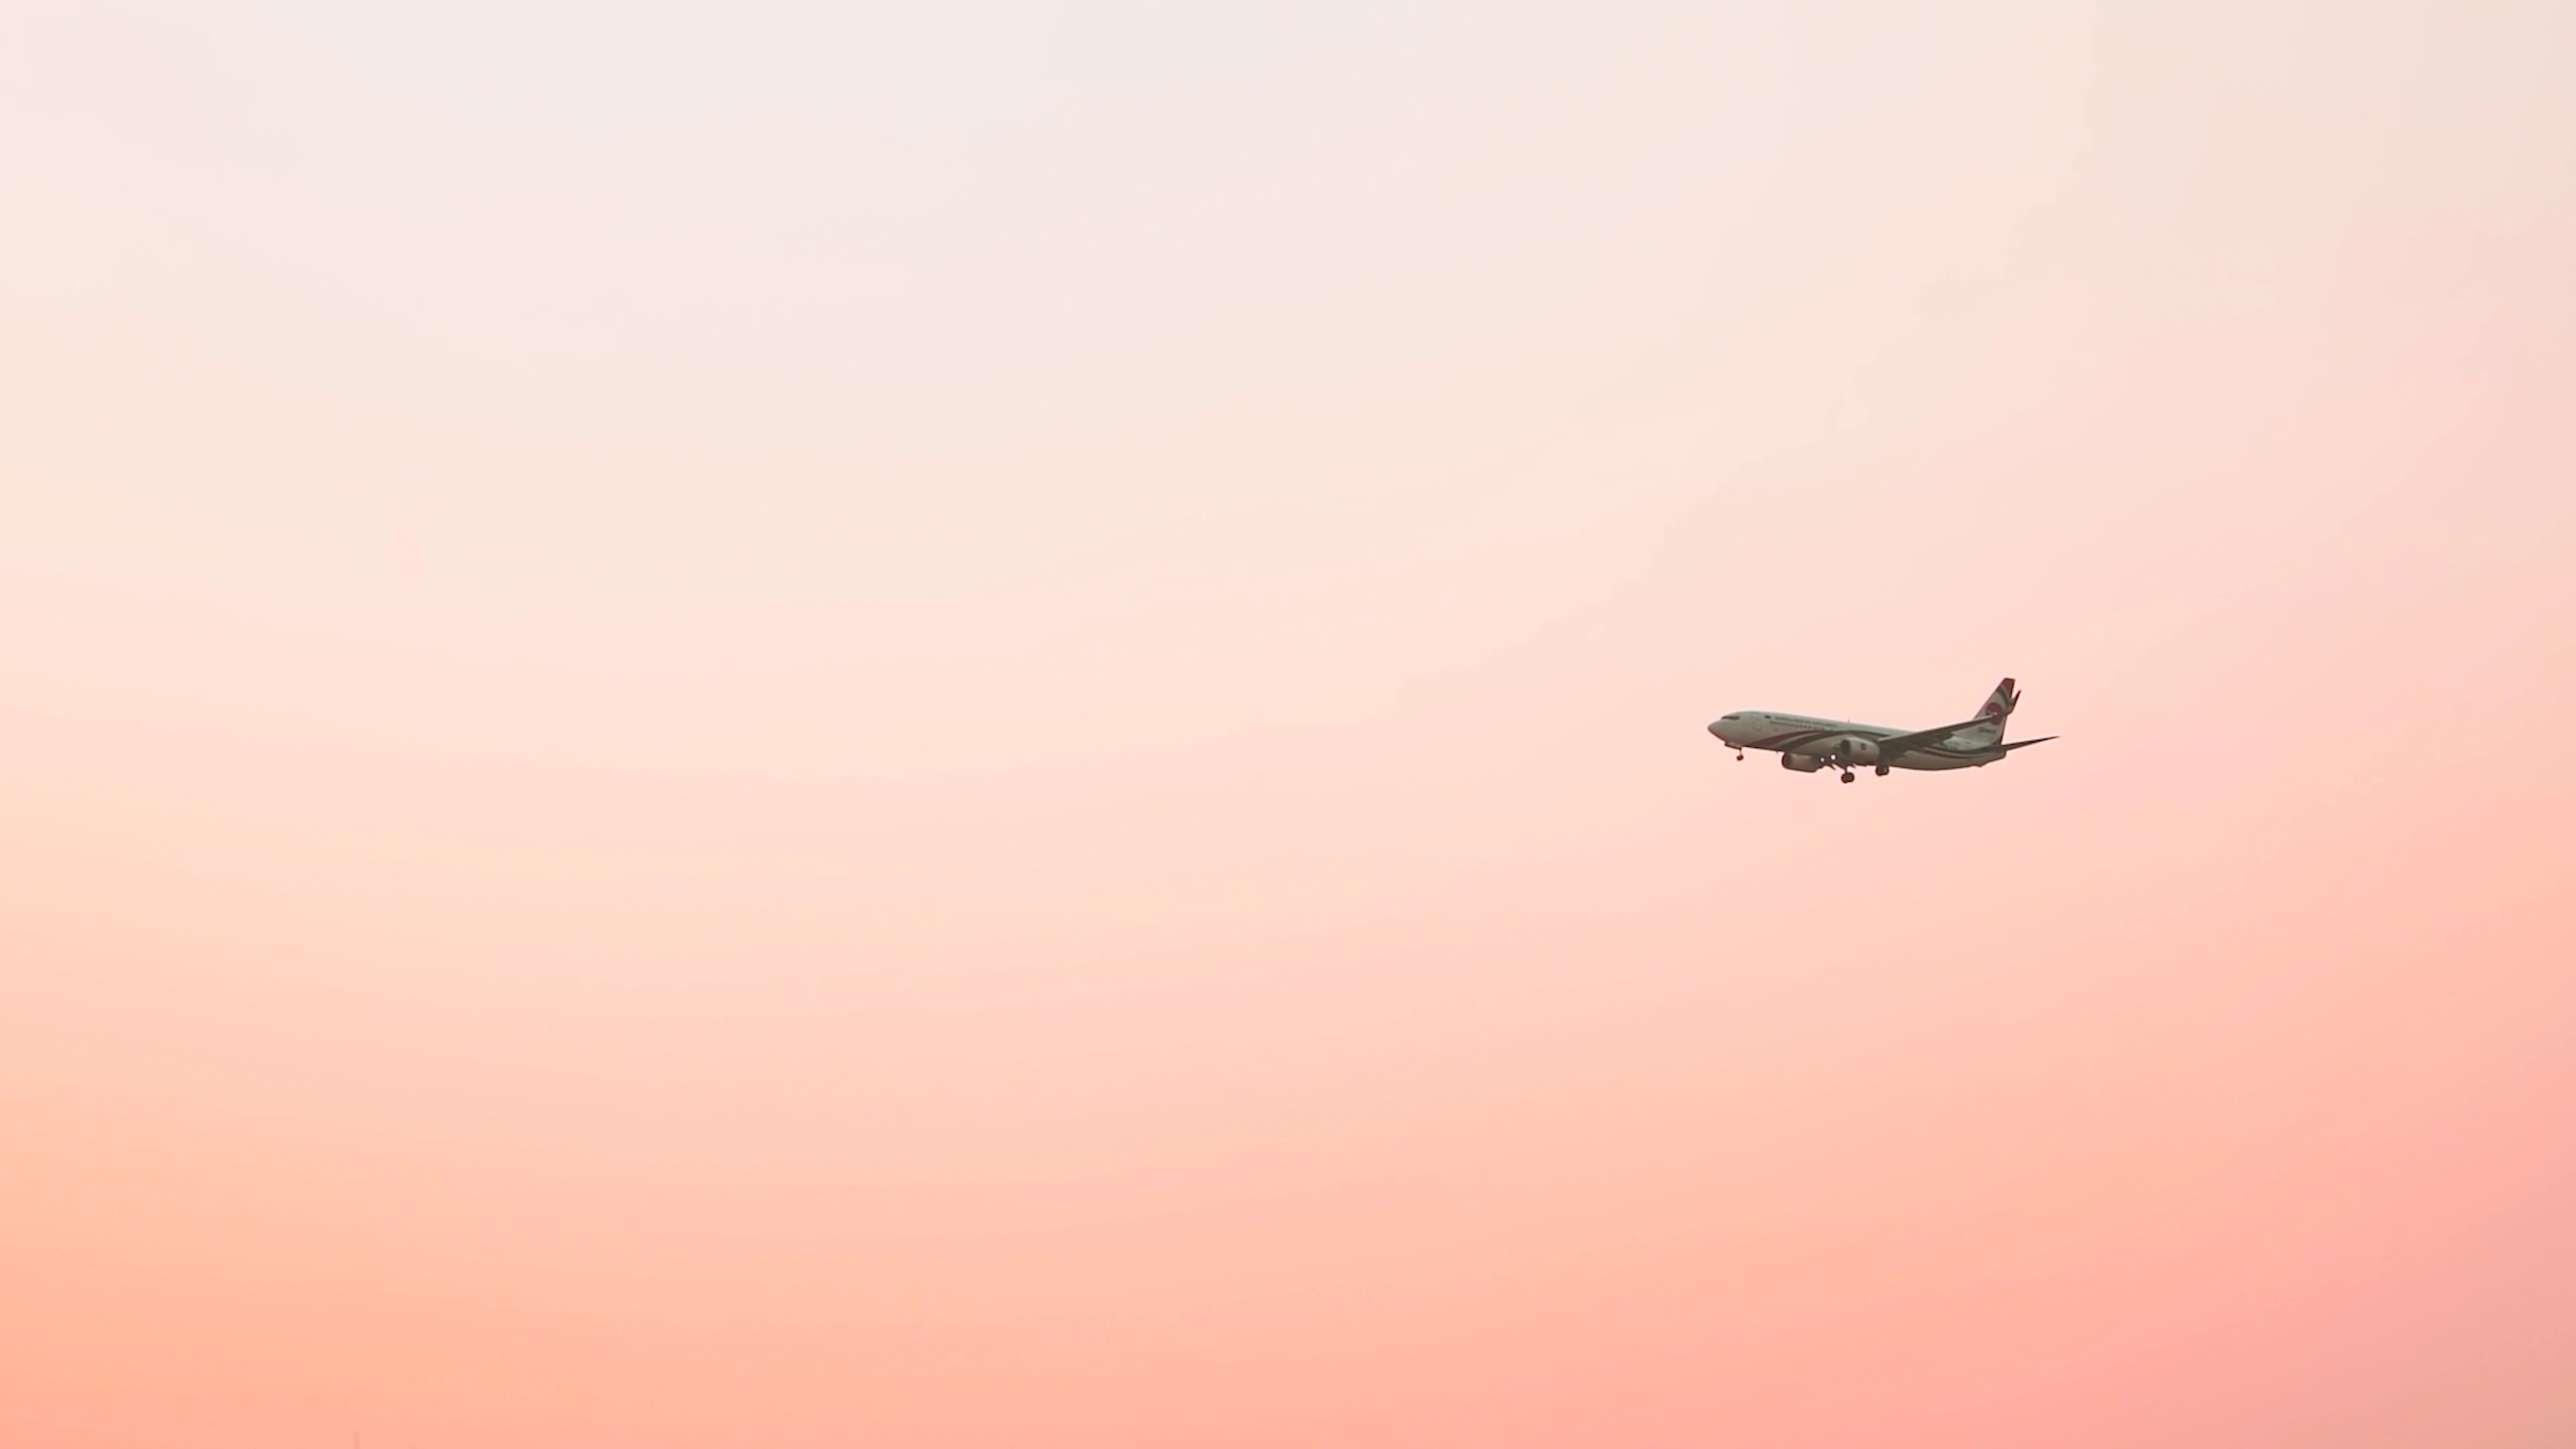plane: (1707, 678, 2059, 782)
